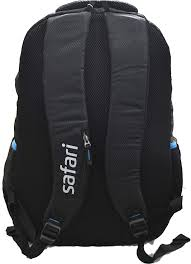backpack: (1, 0, 188, 262)
